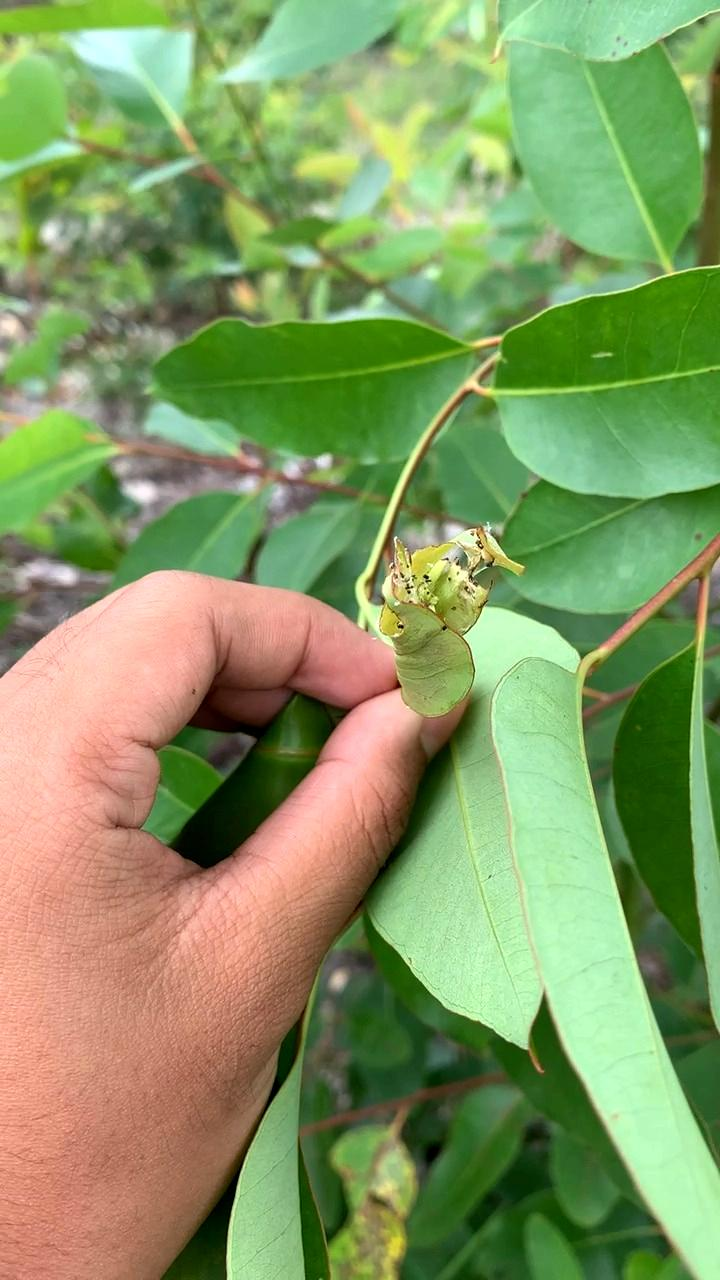Leaf Roller - Leaf: (366, 538, 513, 721)
